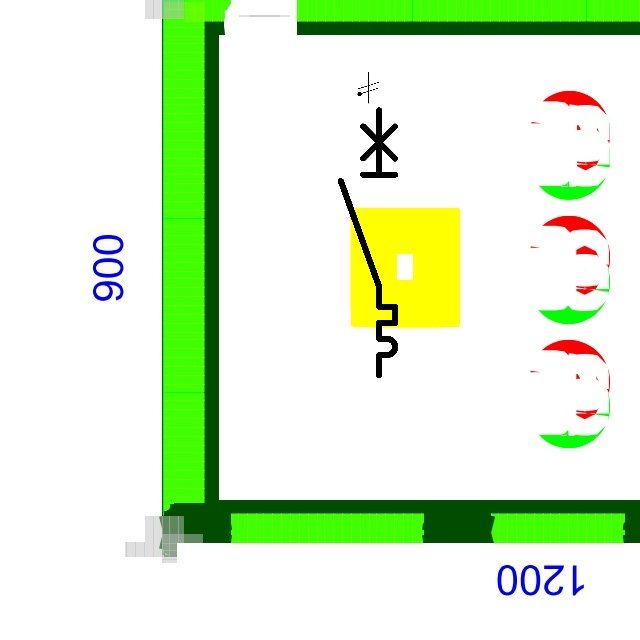interruptor_termomagnetico: (334, 103, 402, 382)
